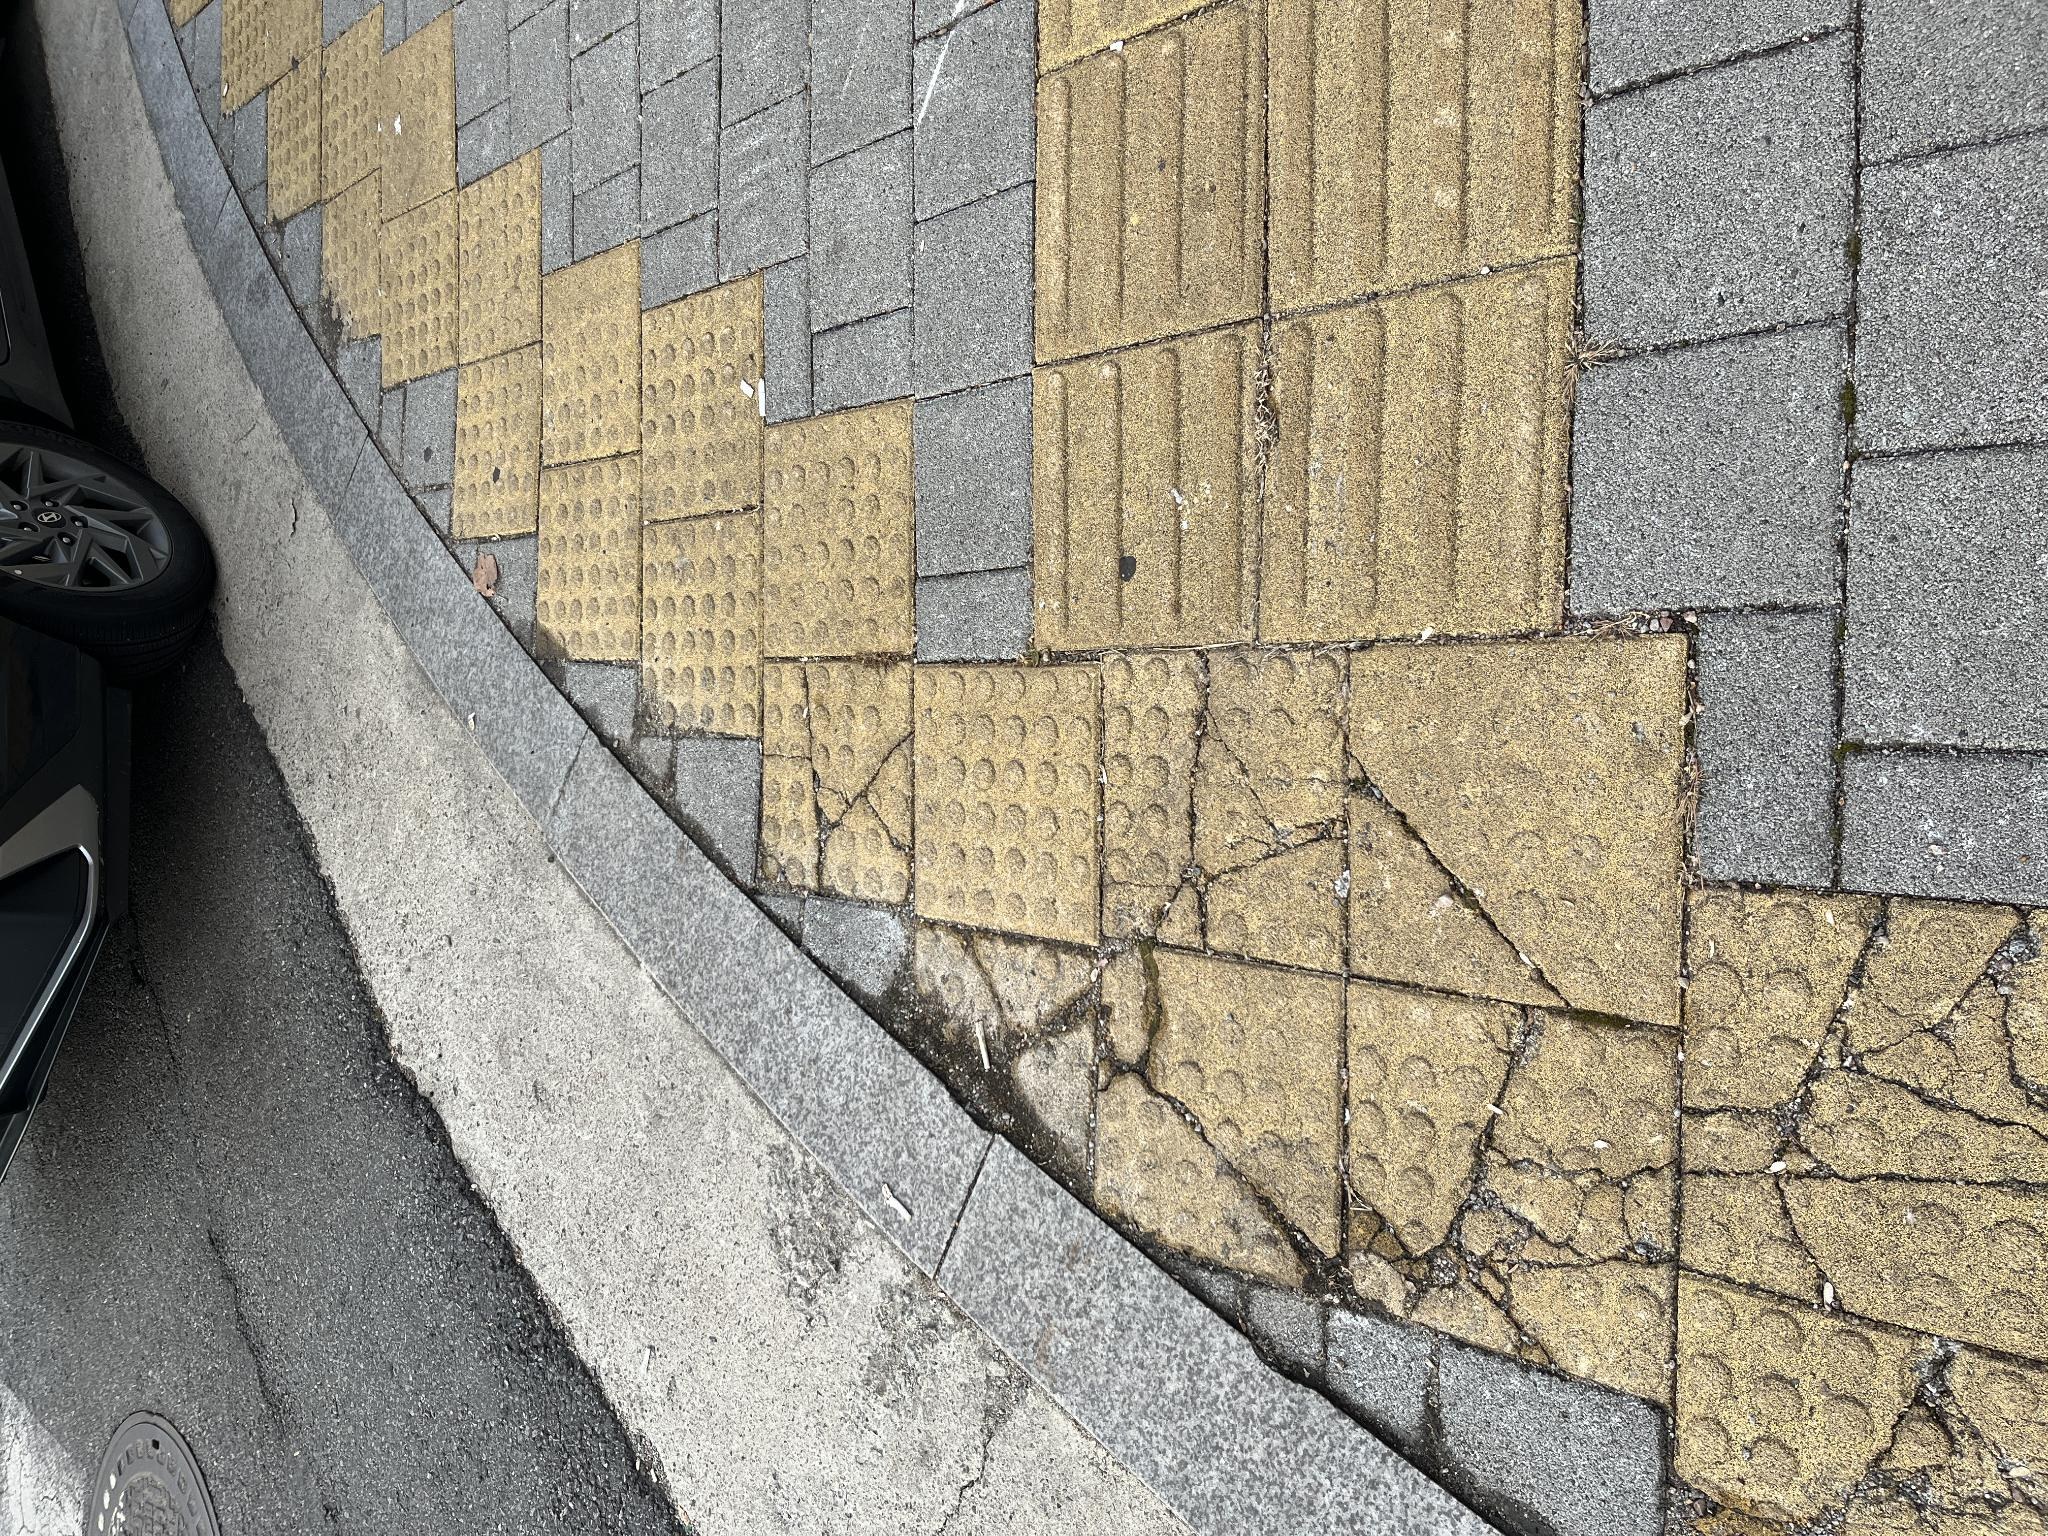Stop block broken: (235, 1099, 593, 1342), (564, 1102, 887, 1342), (177, 1346, 555, 1536), (534, 1352, 893, 1536), (627, 757, 874, 910)
Stop block normal: (595, 916, 871, 1097)
Straight block normal: (892, 1260, 1271, 1536)
